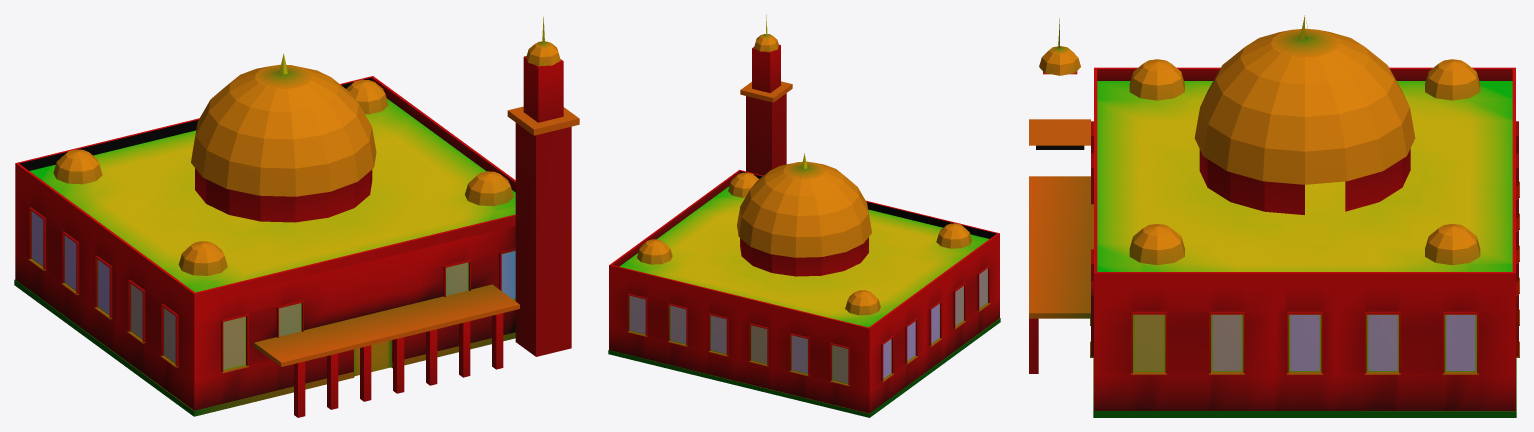
File: mosque.glb
3 renders of one model, left to right at view 1: azimuth 30°, elevation 25°; view 2: azimuth 150°, elevation 25°; view 3: azimuth 270°, elevation 25°, orthographic. The views are drawn at different scales.
Parts seen in each view (by area): view 1: mosque__hall__LOD0; view 2: mosque__hall__LOD0; view 3: mosque__hall__LOD0.
Boxes of the visible parts, box(x1,y1,x2,y2) form: mosque__hall__LOD0: box(14, 16, 579, 417); mosque__hall__LOD0: box(608, 14, 1000, 417); mosque__hall__LOD0: box(1029, 15, 1519, 417).
Size of what is drawn, in the model's own units: 30.48 by 26.55 by 30.24.
